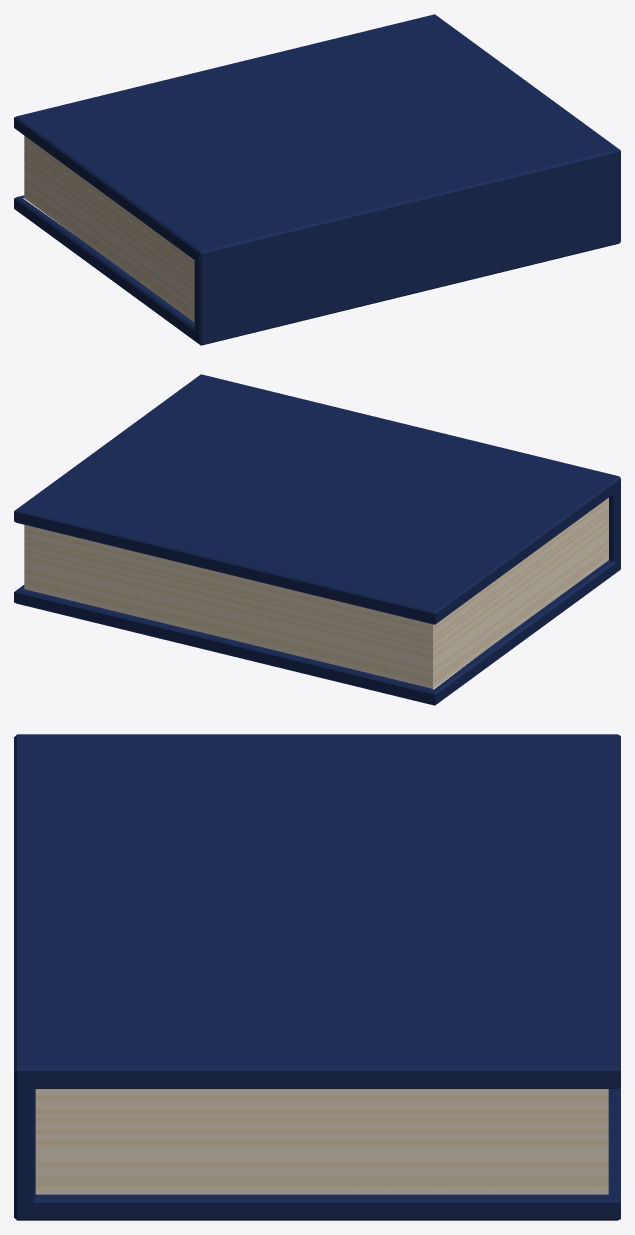
File: Livre_A.fbx
3 views of the same model, one above another, from view 1: azimuth 30°, elevation 25°; view 2: azimuth 150°, elevation 25°; view 3: azimuth 270°, elevation 25° (orthographic). The views are drawn at different scales.
Visible parts, largest first — view 1: Livre; view 2: Livre; view 3: Livre.
Boxes of the visible parts, bbox=[...] form: Livre: bbox=[14, 14, 620, 345]; Livre: bbox=[14, 374, 620, 705]; Livre: bbox=[14, 734, 620, 1220].
Bounding box in the file's own units: 51.58 × 11.04 × 39.49.
